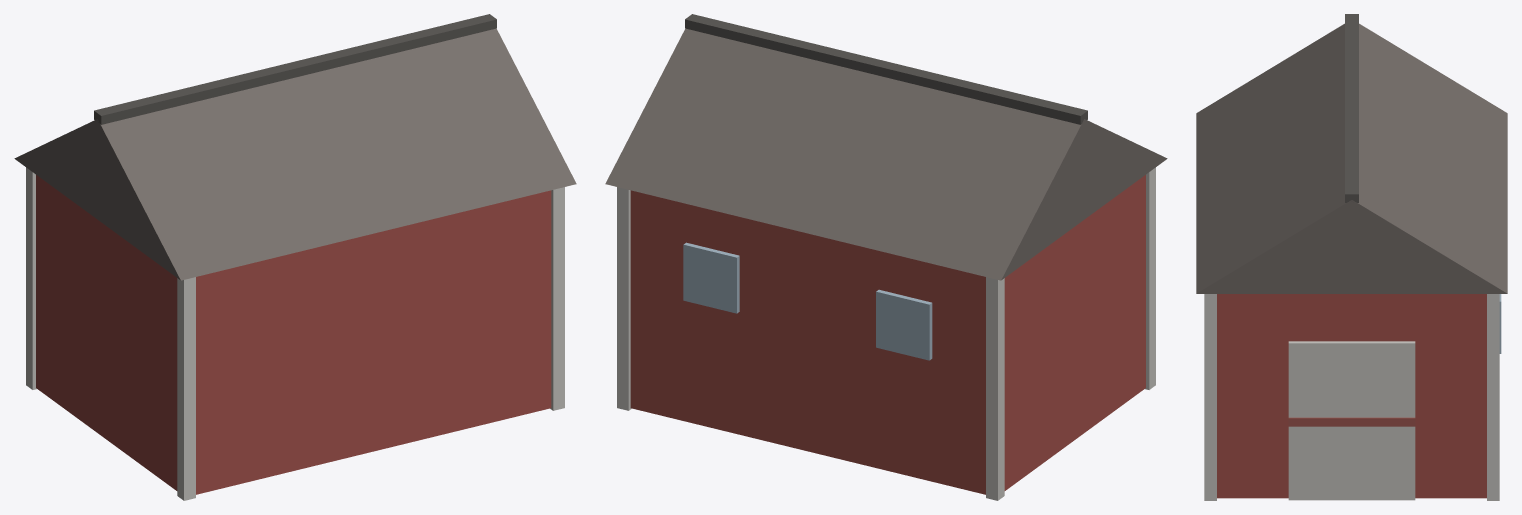
The model's file is barn.glb.
The picture shows the model from 3 angles, left to right: view 1: azimuth 30°, elevation 25°; view 2: azimuth 150°, elevation 25°; view 3: azimuth 270°, elevation 25°; orthographic projection. The views are drawn at different scales.
Visible parts, largest first — view 1: barn; view 2: barn; view 3: barn.
Boxes of the visible parts, left/top/right/bottom form: barn: left=14, top=14, right=576, bottom=500; barn: left=605, top=14, right=1167, bottom=500; barn: left=1196, top=14, right=1507, bottom=500.
Bounding box in the file's own units: 7.4 × 5.93 × 5.4.
